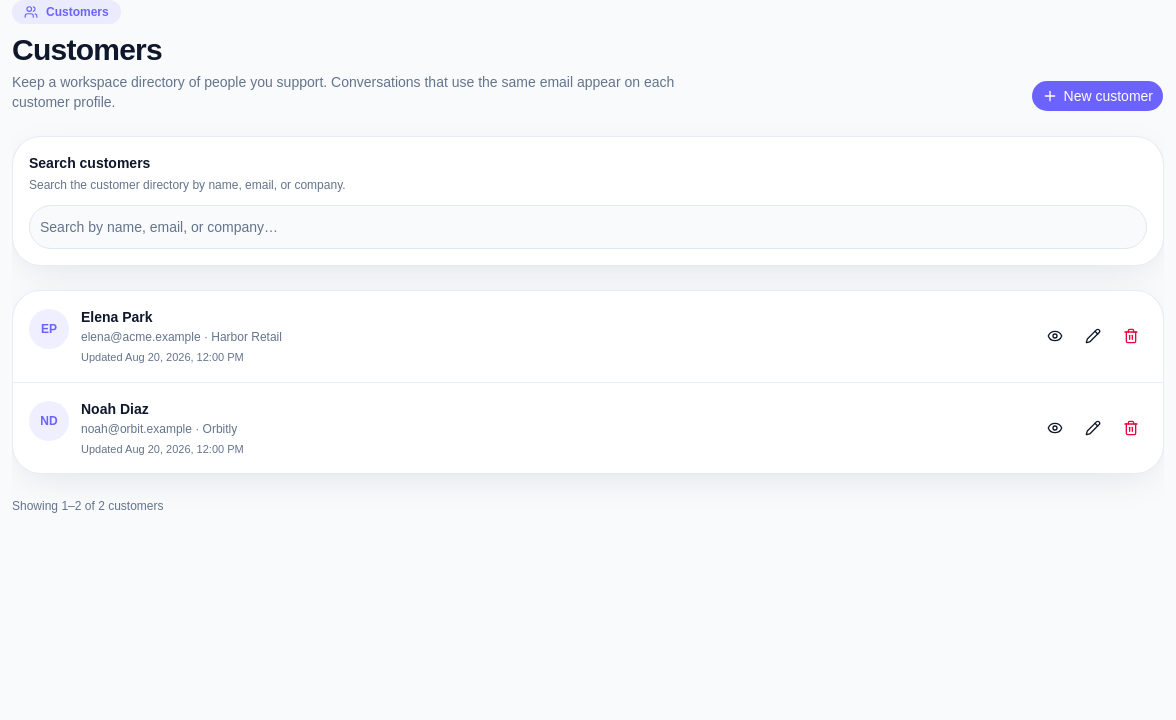
Test: CustomersBoard › searches customers through the API
The width and height of the screenshot is (1176, 720).
Check: the text "Elena Park" is shown, box [81,309,153,325]
Check: the text "Noah Diaz" is shown, box [81,400,149,416]
Type "Harbor" into the field named "Search customers". click: (588, 227)
box: [29,205,1147,249]
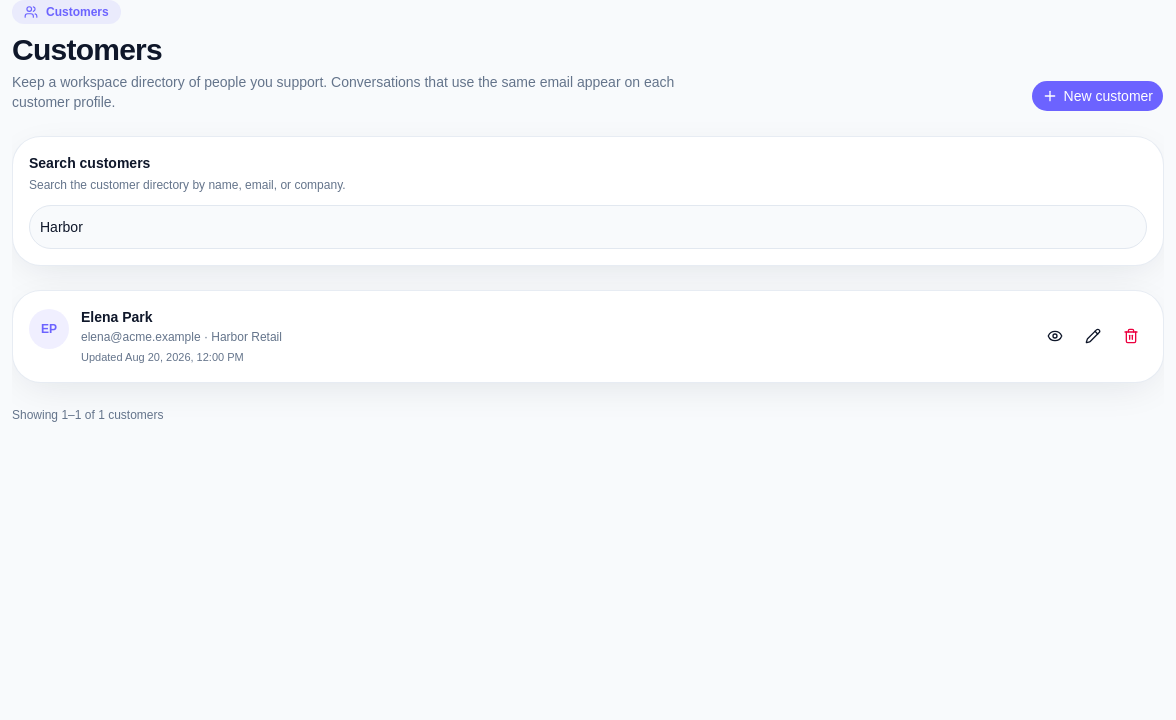
Check: the text "Elena Park" is shown, box [81,309,153,325]
Check: the button "Noah Diaz" is gone
